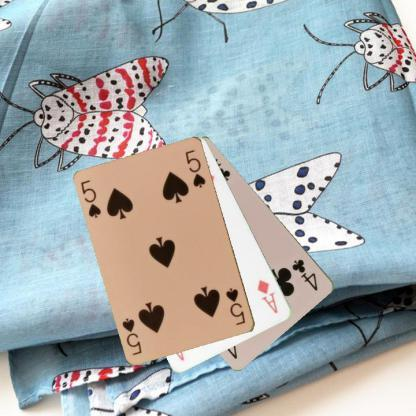4c: (290, 256, 320, 292)
5s: (78, 178, 103, 220), (224, 285, 246, 327)
Ad: (255, 277, 280, 315)
